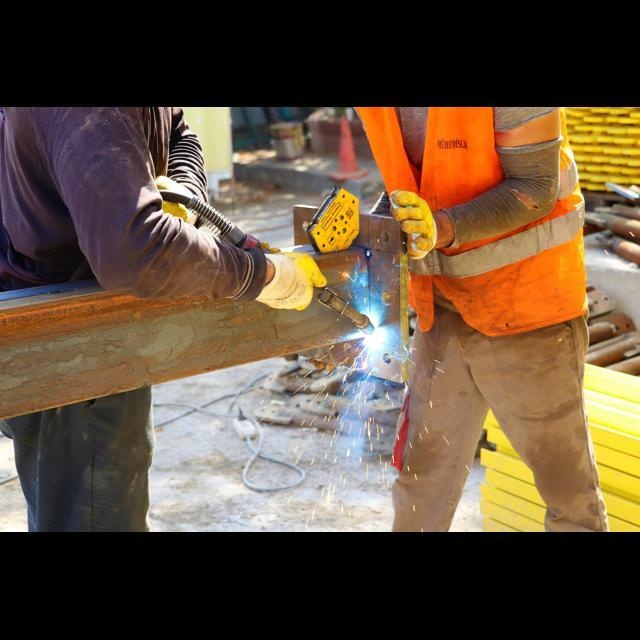no_safety_vest: (12, 112, 321, 334)
person: (7, 108, 326, 535), (367, 111, 619, 530)
safety_vest: (372, 142, 587, 333)
